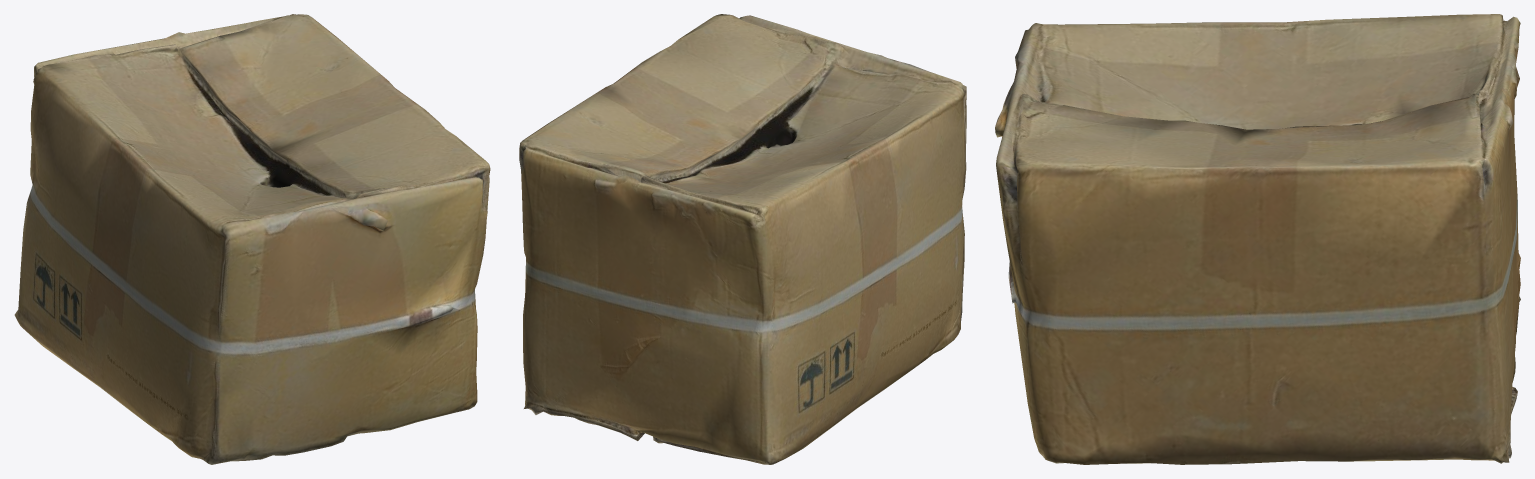
File: cardboard_box_01.glb
3 views of the same model, side by side, from view 1: azimuth 30°, elevation 25°; view 2: azimuth 150°, elevation 25°; view 3: azimuth 270°, elevation 25° (orthographic). The views are drawn at different scales.
Visible parts, largest first — view 1: cardboard_box_01; view 2: cardboard_box_01; view 3: cardboard_box_01.
Boxes of the visible parts, left/top/right/bottom form: cardboard_box_01: left=14, top=14, right=490, bottom=464; cardboard_box_01: left=519, top=14, right=966, bottom=464; cardboard_box_01: left=995, top=14, right=1520, bottom=464.
Bounding box in the file's own units: 0.3867 × 0.3418 × 0.5159.
1 material, 1 textured.
